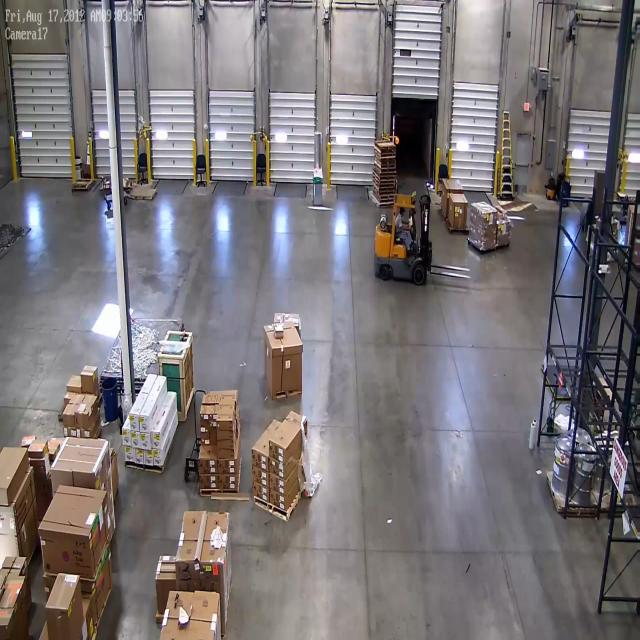human: (397, 207, 412, 253)
product 1: (58, 431, 120, 544), (175, 509, 232, 615), (48, 489, 107, 579), (263, 320, 307, 410), (2, 476, 36, 566), (163, 588, 214, 640), (66, 564, 119, 604), (272, 304, 304, 334), (473, 203, 498, 230), (470, 228, 497, 251), (450, 194, 465, 229), (442, 177, 456, 213), (110, 446, 120, 496), (498, 226, 515, 246)
product 2: (273, 323, 287, 342)
product 3: (140, 417, 151, 434), (121, 429, 132, 445), (151, 429, 159, 449), (154, 450, 164, 466), (129, 410, 137, 429), (134, 452, 142, 468), (126, 448, 135, 462), (132, 432, 141, 446), (145, 448, 151, 464)
product 4: (78, 366, 100, 396), (266, 434, 286, 461), (39, 478, 50, 519), (200, 448, 218, 473), (251, 463, 268, 487), (250, 445, 269, 465), (215, 456, 238, 472), (66, 371, 80, 397), (199, 473, 219, 491), (268, 458, 285, 479), (270, 473, 286, 495), (253, 481, 269, 503), (271, 489, 285, 513), (31, 458, 48, 477), (198, 428, 216, 445), (31, 441, 48, 459), (200, 407, 217, 424), (219, 476, 237, 492), (210, 389, 238, 399), (217, 417, 235, 431), (76, 411, 92, 426), (495, 204, 509, 221), (218, 432, 238, 442), (59, 410, 73, 424), (220, 403, 237, 414), (64, 390, 77, 404), (23, 433, 36, 447), (78, 428, 93, 440), (217, 442, 236, 451), (49, 439, 58, 458), (62, 424, 75, 436), (204, 395, 219, 405), (218, 450, 236, 458)
product 5: (1, 550, 32, 616), (48, 581, 81, 640), (4, 572, 31, 632), (0, 447, 27, 499), (154, 554, 177, 600), (0, 604, 15, 639)
